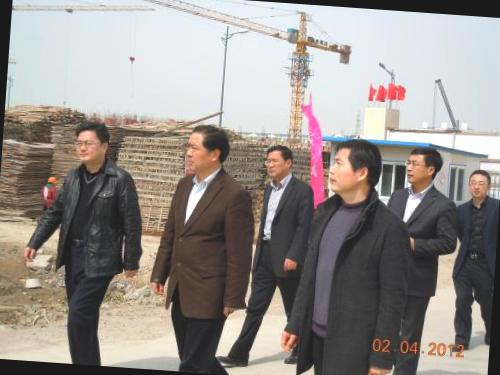no_helmet: (325, 130, 381, 202), (183, 124, 233, 176), (71, 118, 114, 169), (403, 140, 446, 188), (262, 141, 296, 180), (463, 165, 496, 204)
